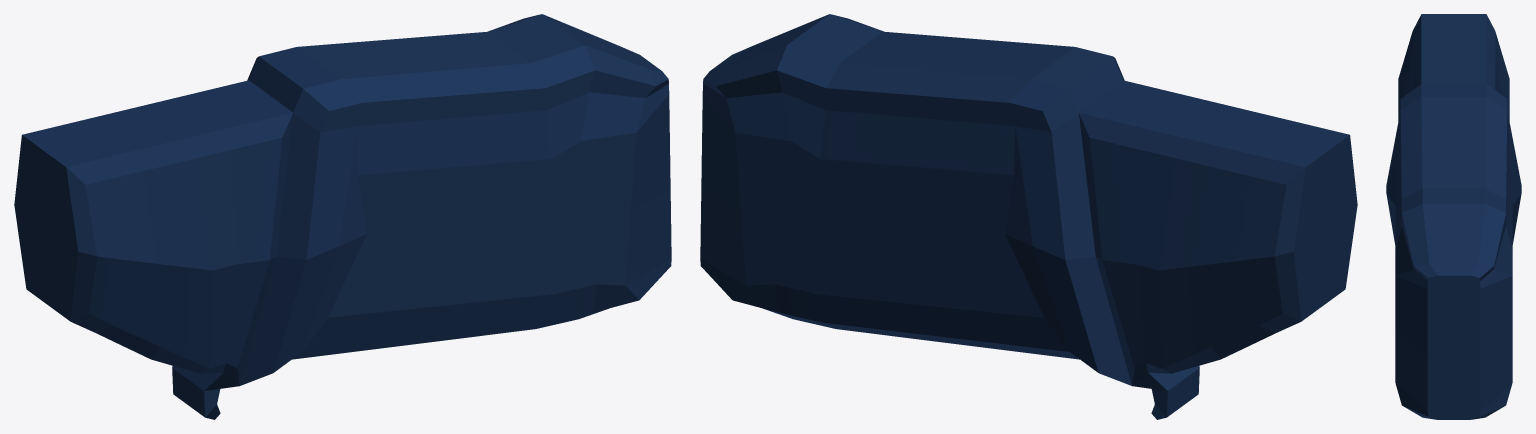
Rendered from generic reciver.fbx.
3 renders of one model, left to right at view 1: azimuth 30°, elevation 25°; view 2: azimuth 150°, elevation 25°; view 3: azimuth 270°, elevation 25°, orthographic. The views are drawn at different scales.
Visible parts, largest first — view 1: generic_reciver; view 2: generic_reciver; view 3: generic_reciver.
Part boxes in pixels (x1=…): generic_reciver: x1=14, y1=14, x2=671, y2=419; generic_reciver: x1=700, y1=14, x2=1357, y2=419; generic_reciver: x1=1386, y1=14, x2=1521, y2=419.
Size of the model in its own units: 205 by 104 by 53.78.
Materials: 1 (1 with a texture image).
